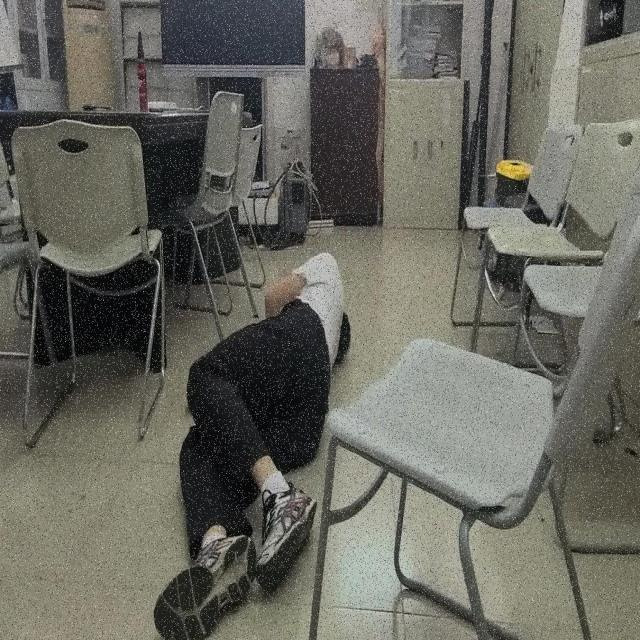fall: (153, 248, 354, 640)
